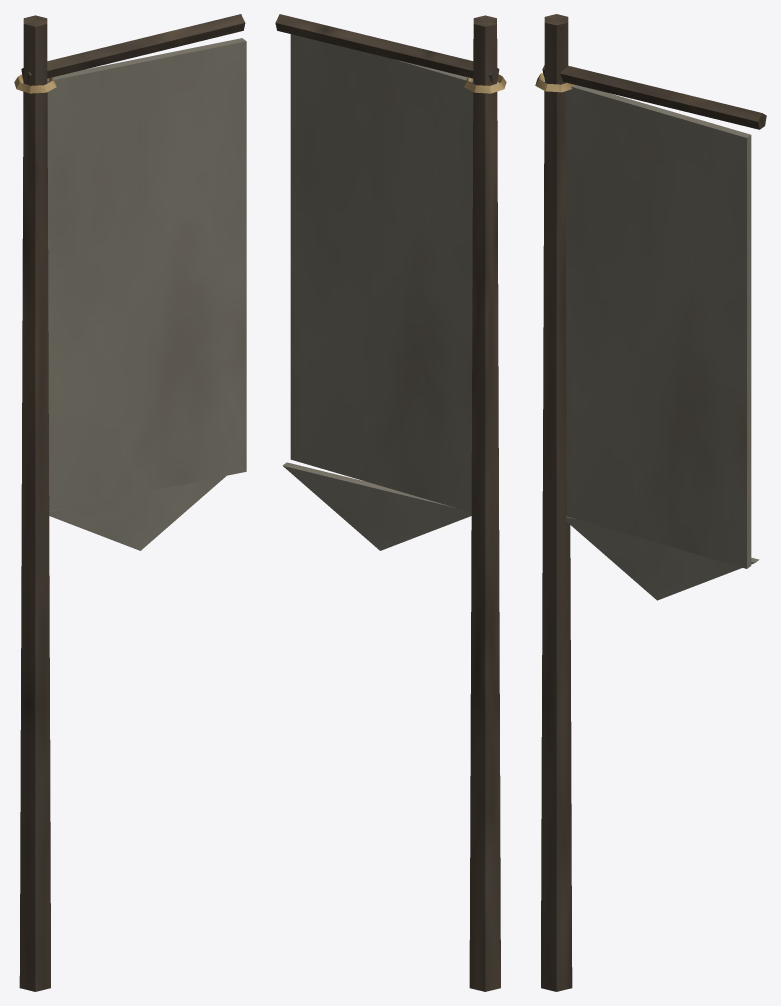
File: SM_Camp_TeamBanner.fbx
3 renders of one model, left to right at view 1: azimuth 30°, elevation 25°; view 2: azimuth 150°, elevation 25°; view 3: azimuth 330°, elevation 25°, orthographic.
Parts seen in each view (by area): view 1: SM_Camp_TeamBanner; view 2: SM_Camp_TeamBanner; view 3: SM_Camp_TeamBanner.
Part boxes in pixels (left/top/right/bottom): SM_Camp_TeamBanner: left=14, top=14, right=246, bottom=991; SM_Camp_TeamBanner: left=275, top=14, right=506, bottom=991; SM_Camp_TeamBanner: left=535, top=14, right=766, bottom=991.
Bounding box in the file's own units: 2.29 × 9.4 × 0.3893.
Materials: 1 (1 with a texture image).
